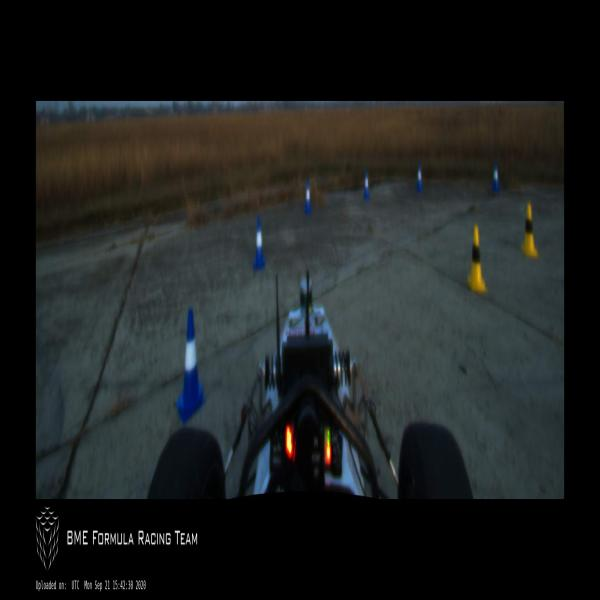blue_cone: (177, 308, 205, 422), (253, 216, 265, 270), (304, 182, 312, 215), (416, 163, 424, 192), (492, 163, 500, 192), (364, 170, 370, 199)
yellow_cone: (467, 226, 488, 293), (520, 201, 538, 260)
